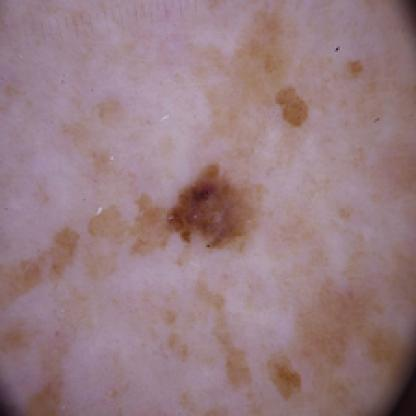Skin_Cancer-Malignant: (165, 160, 258, 247)
